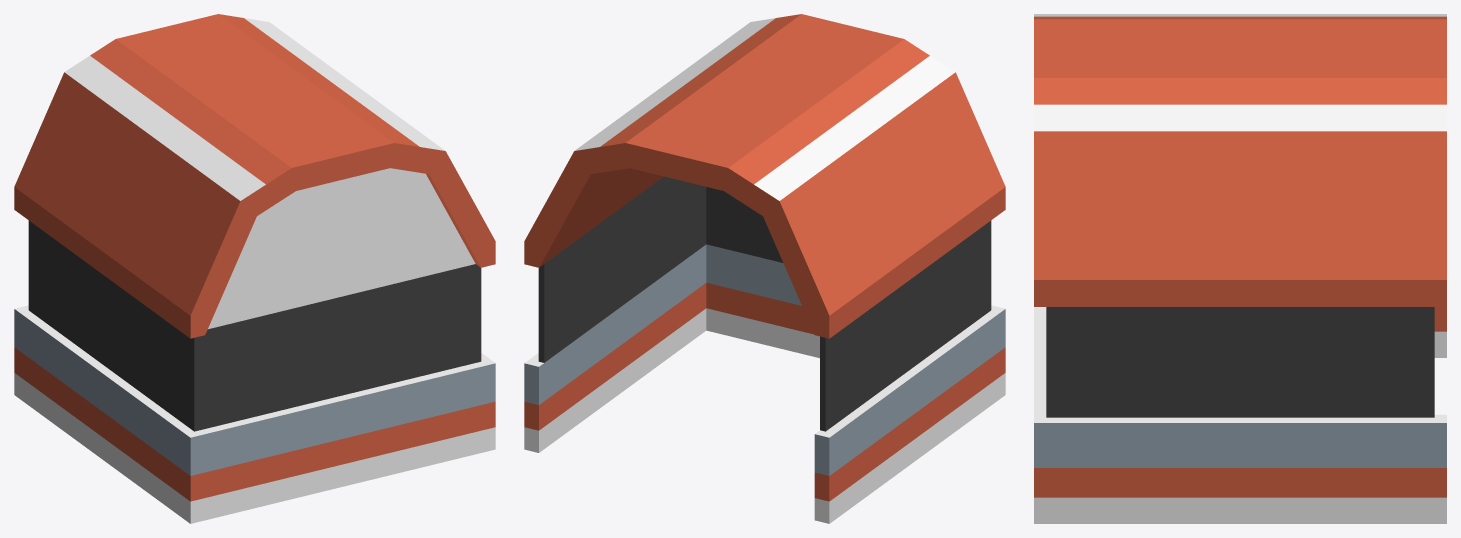
Rendered from buildingCorridorOpenEnd.fbx.
The picture shows the model from 3 angles, left to right: view 1: azimuth 30°, elevation 25°; view 2: azimuth 150°, elevation 25°; view 3: azimuth 270°, elevation 25°; orthographic projection. The views are drawn at different scales.
Parts seen in each view (by area): view 1: buildingCorridorOpenEnd; view 2: buildingCorridorOpenEnd; view 3: buildingCorridorOpenEnd.
Part boxes in pixels (box(x1,y1,x2,y2)): buildingCorridorOpenEnd: box(14, 14, 495, 523); buildingCorridorOpenEnd: box(524, 14, 1005, 523); buildingCorridorOpenEnd: box(1034, 14, 1446, 523).
Size of the model in its own units: 10 by 10.37 by 10.
